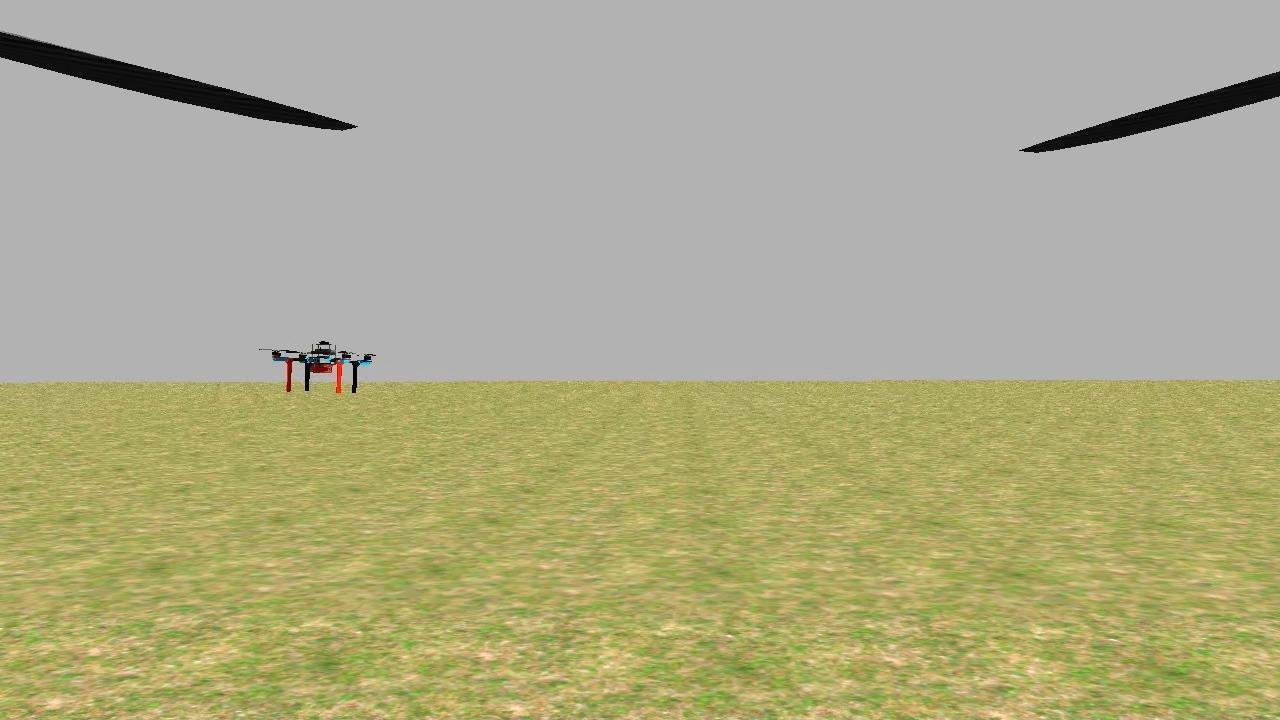UAV: (260, 338, 381, 399)
